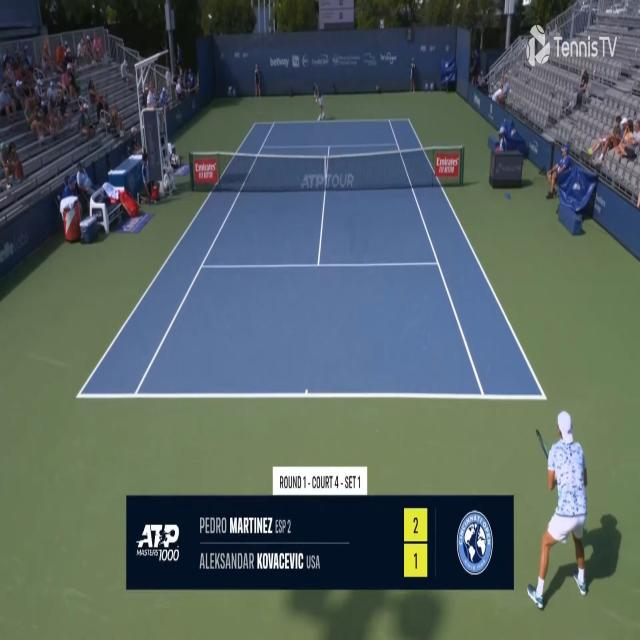tennis-player: (526, 402, 600, 617), (311, 79, 326, 122)
